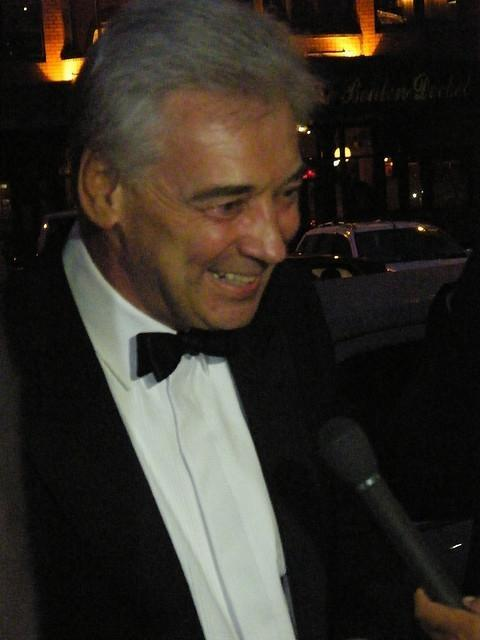car: (292, 221, 470, 361)
